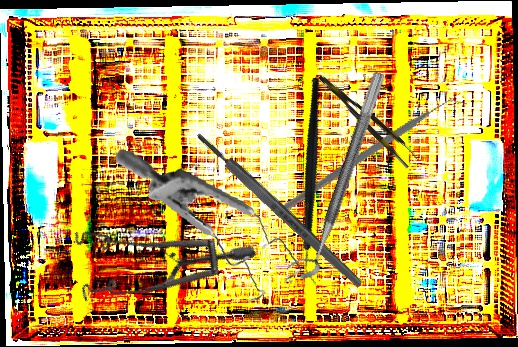Chopper: (274, 49, 468, 269), (236, 75, 393, 288)
Fixation Ring: (285, 65, 387, 284)
Scalpel Handle: (193, 129, 366, 291)
Speculum: (51, 157, 258, 345), (100, 149, 314, 308)
Tissue Forceps: (317, 67, 419, 169)
